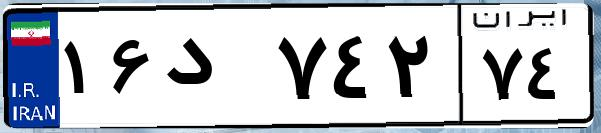1: (57, 26, 110, 100)
2: (385, 28, 445, 110)
4: (330, 28, 385, 110), (525, 38, 570, 115)
6: (110, 28, 158, 98)
7: (270, 28, 330, 110), (475, 38, 525, 113)
د: (158, 20, 270, 120)
